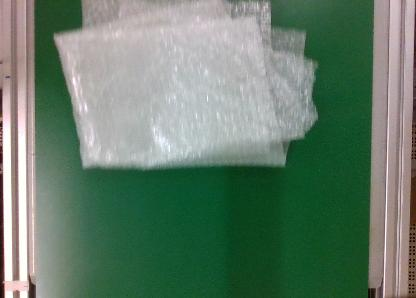Others: (50, 1, 318, 171)
